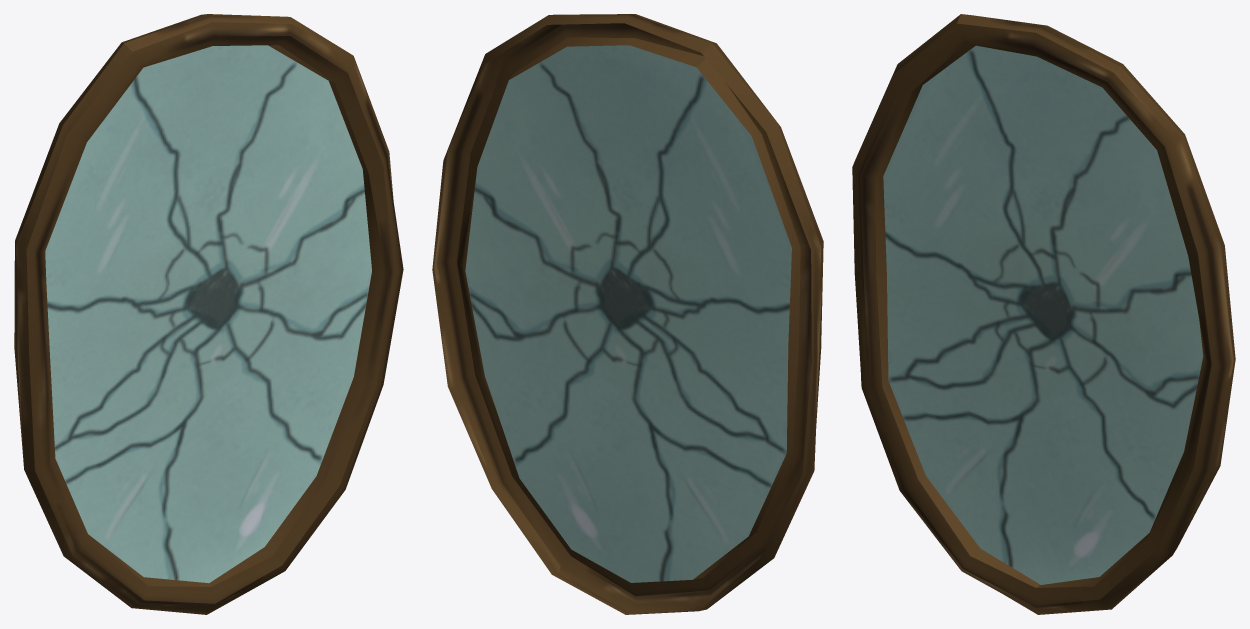
File: mirror.fbx
The picture shows the model from 3 angles, left to right: view 1: azimuth 30°, elevation 25°; view 2: azimuth 150°, elevation 25°; view 3: azimuth 330°, elevation 25°; orthographic projection. The views are drawn at different scales.
Visible parts, largest first — view 1: Broken_mirror; view 2: Broken_mirror; view 3: Broken_mirror.
Part boxes in pixels (box(x1,y1,x2,y2)): Broken_mirror: box(14, 14, 403, 614); Broken_mirror: box(432, 14, 823, 614); Broken_mirror: box(852, 14, 1235, 614).
Bounding box in the file's own units: 56.73 × 84.65 × 4.15.
1 material, 1 textured.
